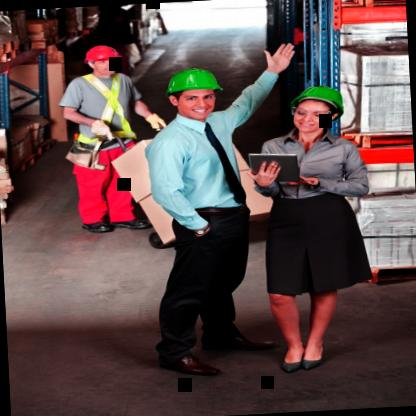helmet: (282, 76, 349, 144), (162, 59, 226, 120), (76, 37, 129, 85)
